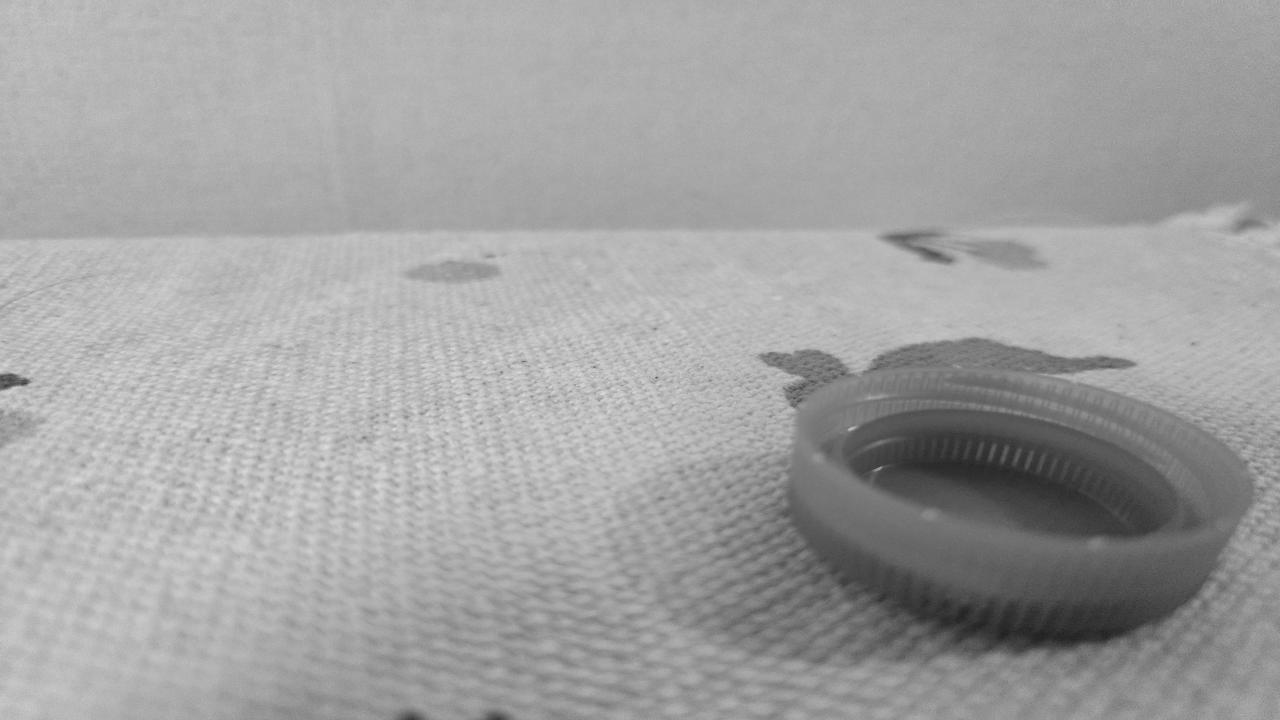bottle_cap: (766, 357, 1264, 641)
